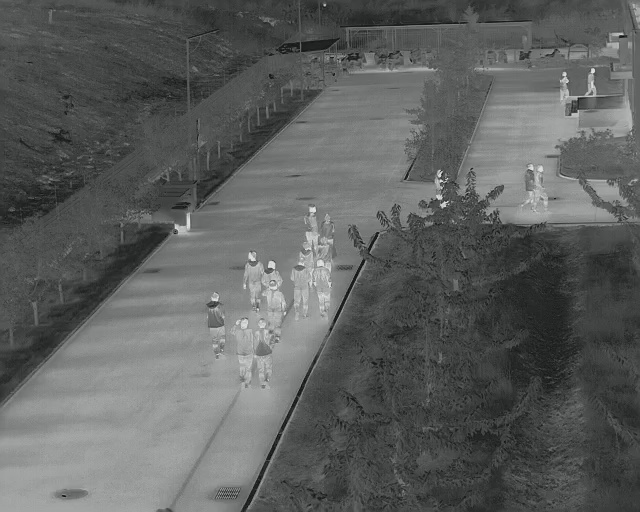person: (263, 279, 291, 343), (230, 316, 253, 393), (204, 290, 228, 362), (253, 319, 276, 394), (289, 256, 311, 321), (241, 248, 263, 311), (311, 258, 333, 321), (522, 163, 546, 210), (301, 202, 322, 251), (322, 213, 335, 255), (557, 70, 572, 102), (585, 66, 600, 96)
